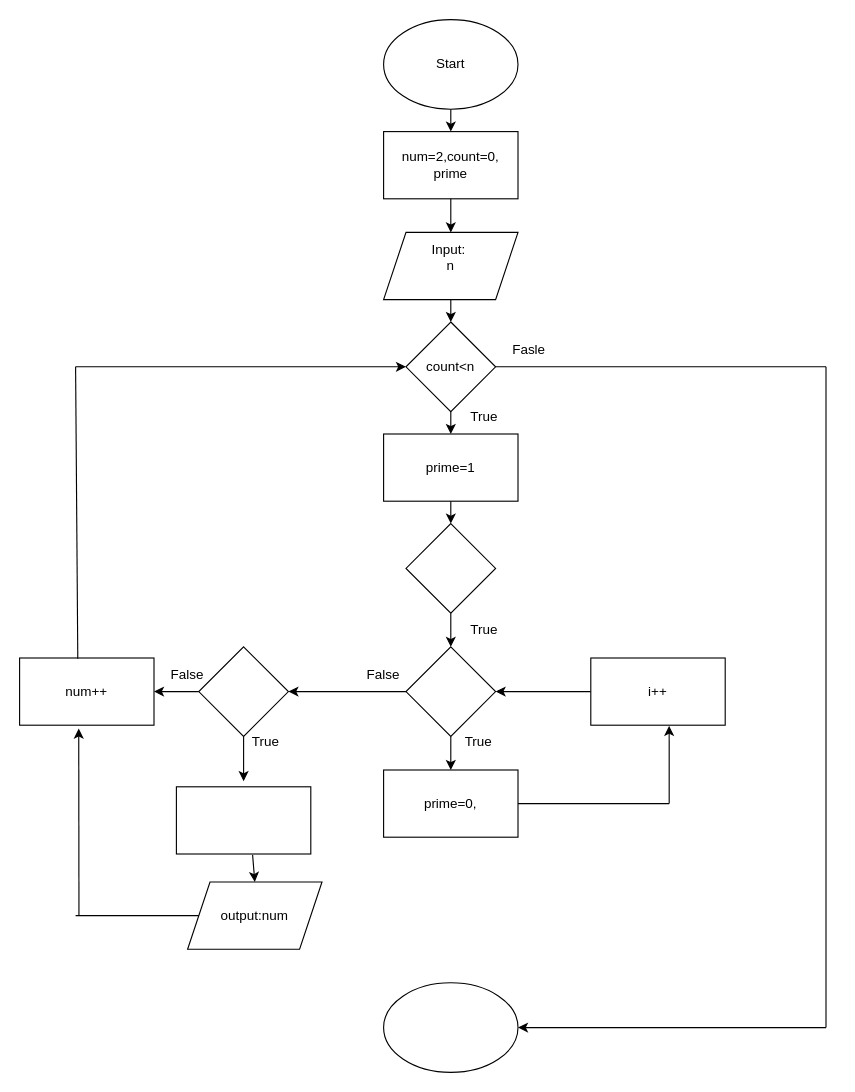
This 855x1092 diagram has some shape labels left out. Here are the shapes that lost their labels. From the top down, the box of each, then its label:
(405, 522, 496, 613): i<sqrt(num)
(198, 646, 288, 736): prime==1
(405, 646, 496, 736): num%i==0
(175, 786, 311, 854): count++
(382, 982, 518, 1072): End
